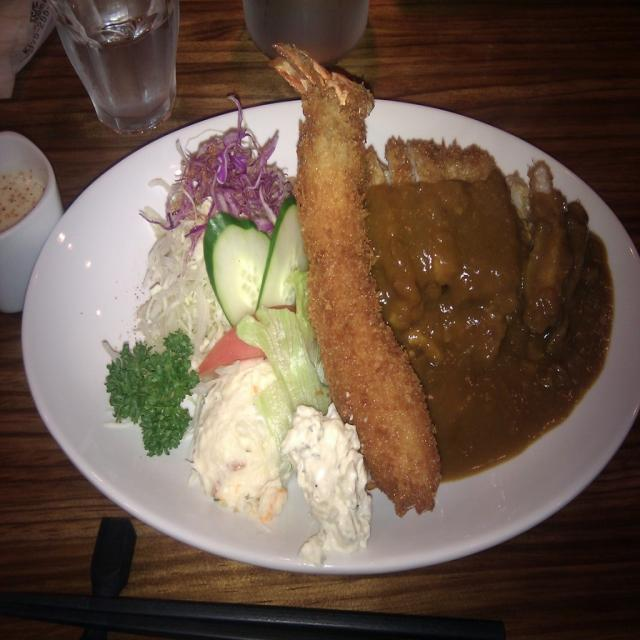Cucumber: (257, 193, 308, 309)
